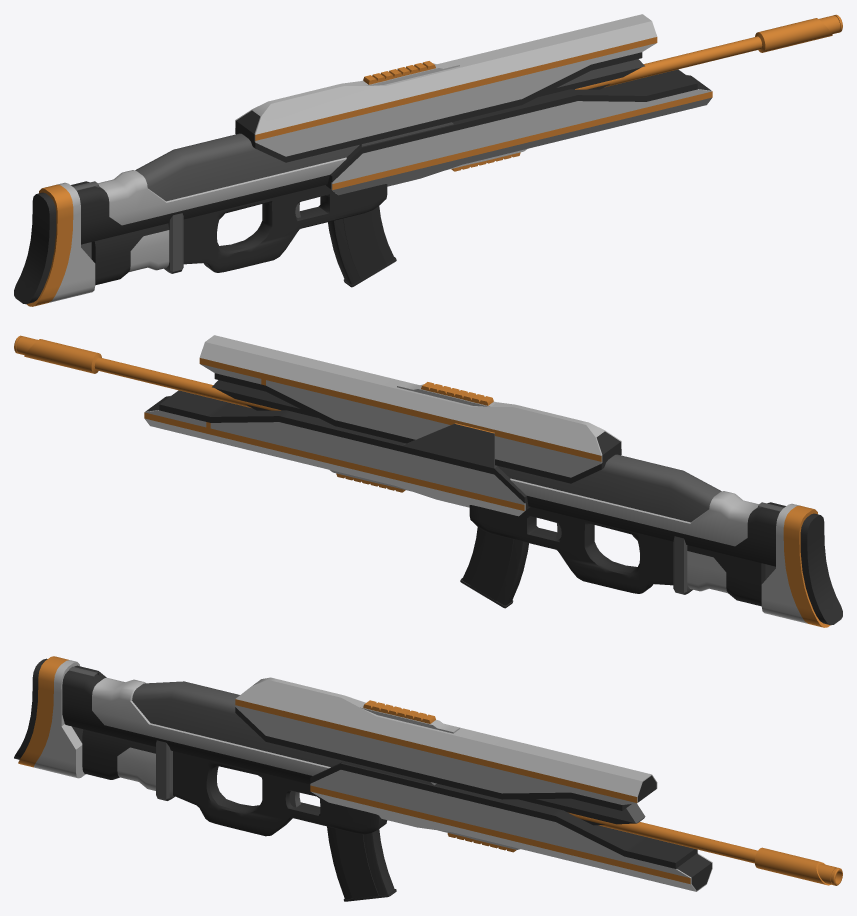
File: Sniper_1.gltf
The picture shows the model from 3 angles, top to bottom: view 1: azimuth 30°, elevation 25°; view 2: azimuth 150°, elevation 25°; view 3: azimuth 330°, elevation 25°; orthographic projection.
Parts seen in each view (by area): view 1: Sniper_1, Magazine_Sniper; view 2: Sniper_1, Magazine_Sniper; view 3: Sniper_1, Magazine_Sniper.
Part boxes in pixels (x1,y1,x2,y2): Sniper_1: [14, 14, 842, 306]; Magazine_Sniper: [328, 206, 396, 287]; Sniper_1: [14, 335, 842, 627]; Magazine_Sniper: [460, 527, 528, 608]; Sniper_1: [14, 656, 842, 891]; Magazine_Sniper: [327, 826, 396, 901].
Bounding box in the file's own units: 2.22 × 0.5222 × 0.1028.
